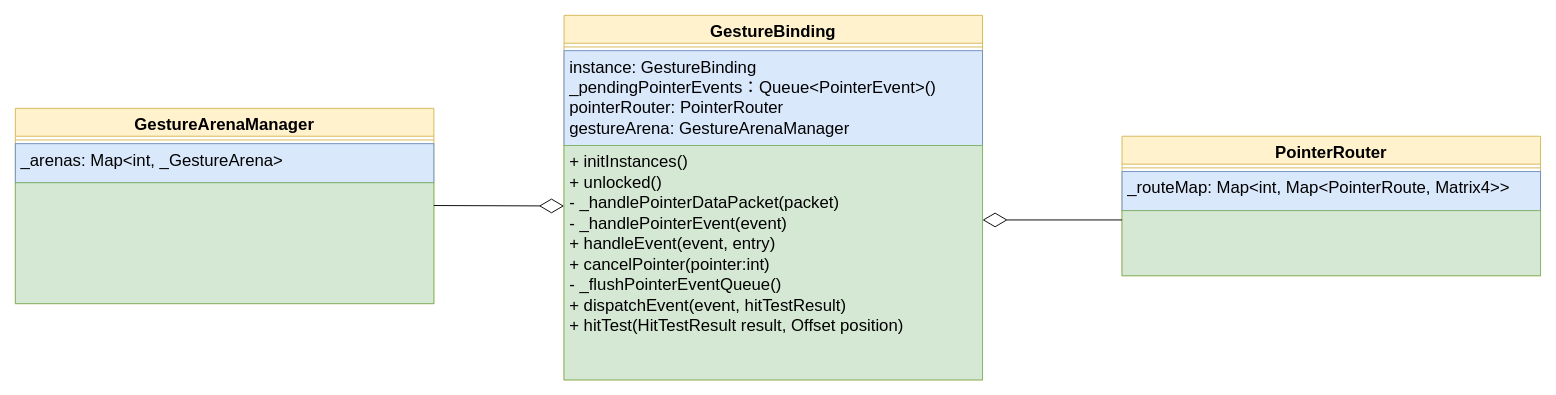
The diagram is 1556 pixels wide and 395 high, and some of its shapes have lost their labels. The centre of each missing label's shape, as x and y in pixels:
"+ add() + close() + sweep() + hold() + release()" belongs at point (224, 243).
"+ addRoute() + removeRoute()" belongs at point (1331, 243).
